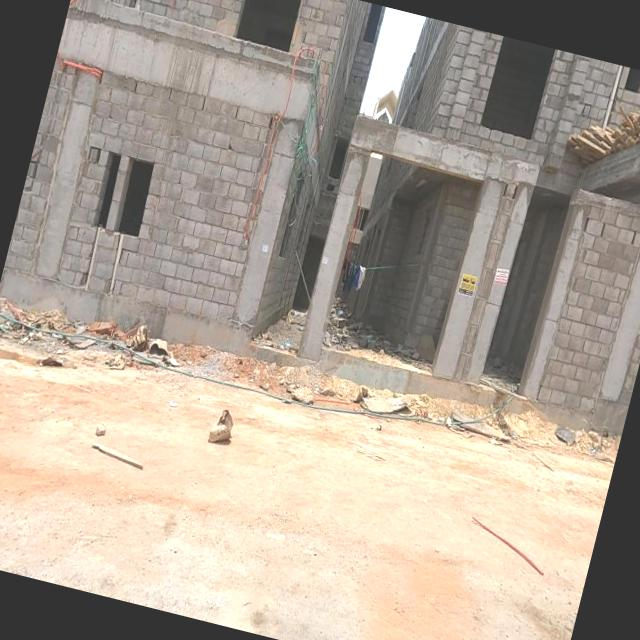debris: (46, 267, 236, 440), (371, 336, 574, 494), (0, 243, 149, 446), (415, 471, 602, 617), (305, 337, 452, 484), (240, 332, 368, 453), (298, 287, 426, 398), (53, 408, 178, 511), (176, 382, 270, 483), (0, 262, 73, 388), (304, 284, 379, 371), (530, 393, 610, 472), (130, 370, 204, 450), (371, 321, 444, 386), (570, 410, 624, 480), (258, 321, 319, 377)
